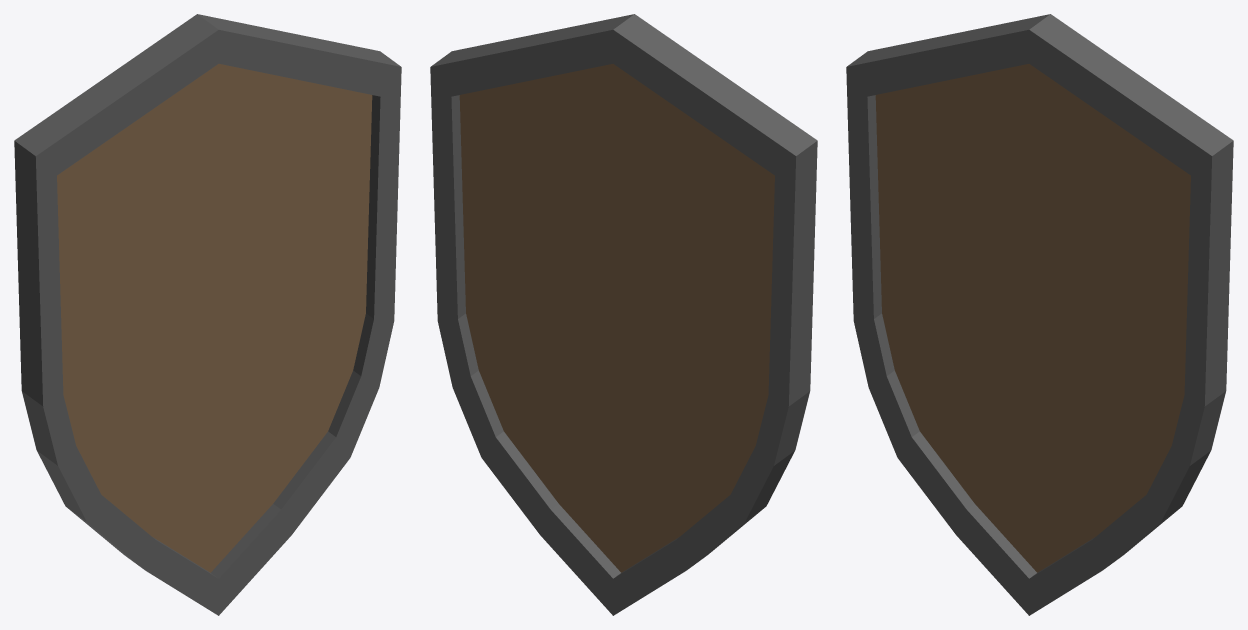
Rendered from Shield_1_Brown.fbx.
3 views of the same model, side by side, from view 1: azimuth 30°, elevation 25°; view 2: azimuth 150°, elevation 25°; view 3: azimuth 330°, elevation 25° (orthographic).
Parts seen in each view (by area): view 1: Shield_1_Brown_Part_2, Shield_1_Brown_Part_1; view 2: Shield_1_Brown_Part_2, Shield_1_Brown_Part_1; view 3: Shield_1_Brown_Part_2, Shield_1_Brown_Part_1.
Boxes of the visible parts, <box> form: Shield_1_Brown_Part_2: <box>57,64,372,572</box>; Shield_1_Brown_Part_1: <box>14,14,401,615</box>; Shield_1_Brown_Part_2: <box>459,64,774,572</box>; Shield_1_Brown_Part_1: <box>430,14,817,615</box>; Shield_1_Brown_Part_2: <box>875,64,1190,572</box>; Shield_1_Brown_Part_1: <box>846,14,1233,615</box>.
Bounding box in the file's own units: 78.38 × 120 × 7.98.
